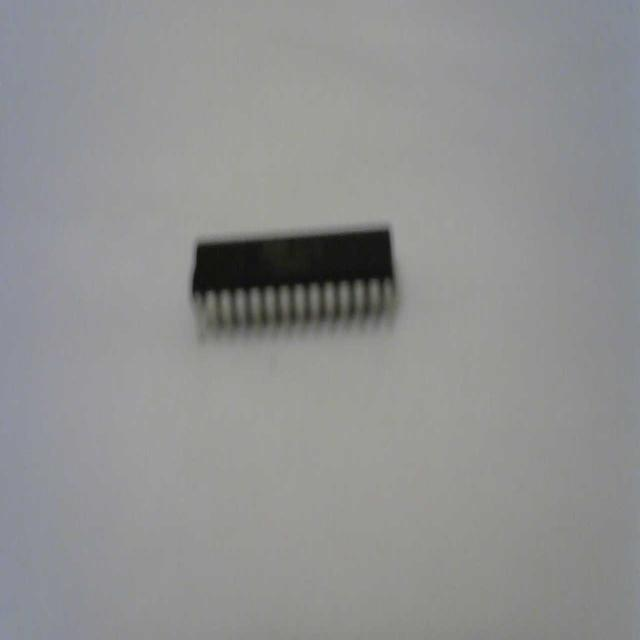atmega: (188, 220, 398, 342)
